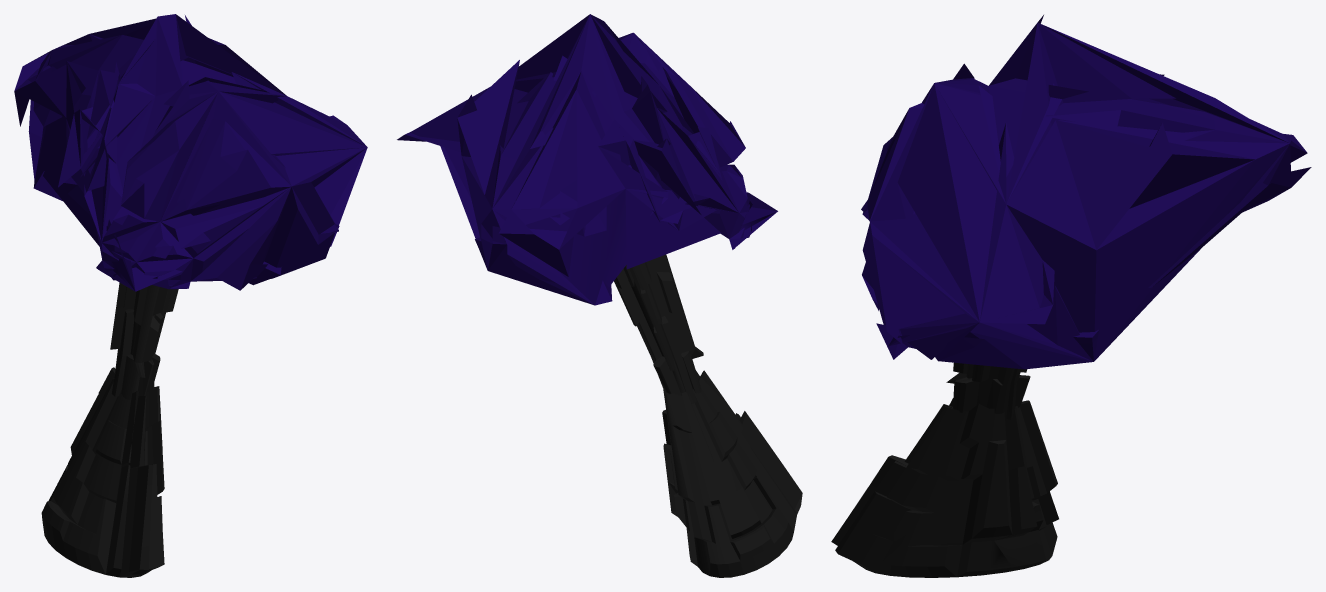
Rendered from treenumv3.FBX.
3 views of the same model, side by side, from view 1: azimuth 30°, elevation 25°; view 2: azimuth 150°, elevation 25°; view 3: azimuth 270°, elevation 25° (orthographic). The views are drawn at different scales.
Parts seen in each view (by area): view 1: BlobMesh003; view 2: BlobMesh003; view 3: BlobMesh003.
Boxes of the visible parts, left/top/right/bottom form: BlobMesh003: left=14, top=14, right=367, bottom=577; BlobMesh003: left=397, top=14, right=802, bottom=577; BlobMesh003: left=831, top=15, right=1311, bottom=577.
Bounding box in the file's own units: 41.91 × 61.57 × 44.06.
